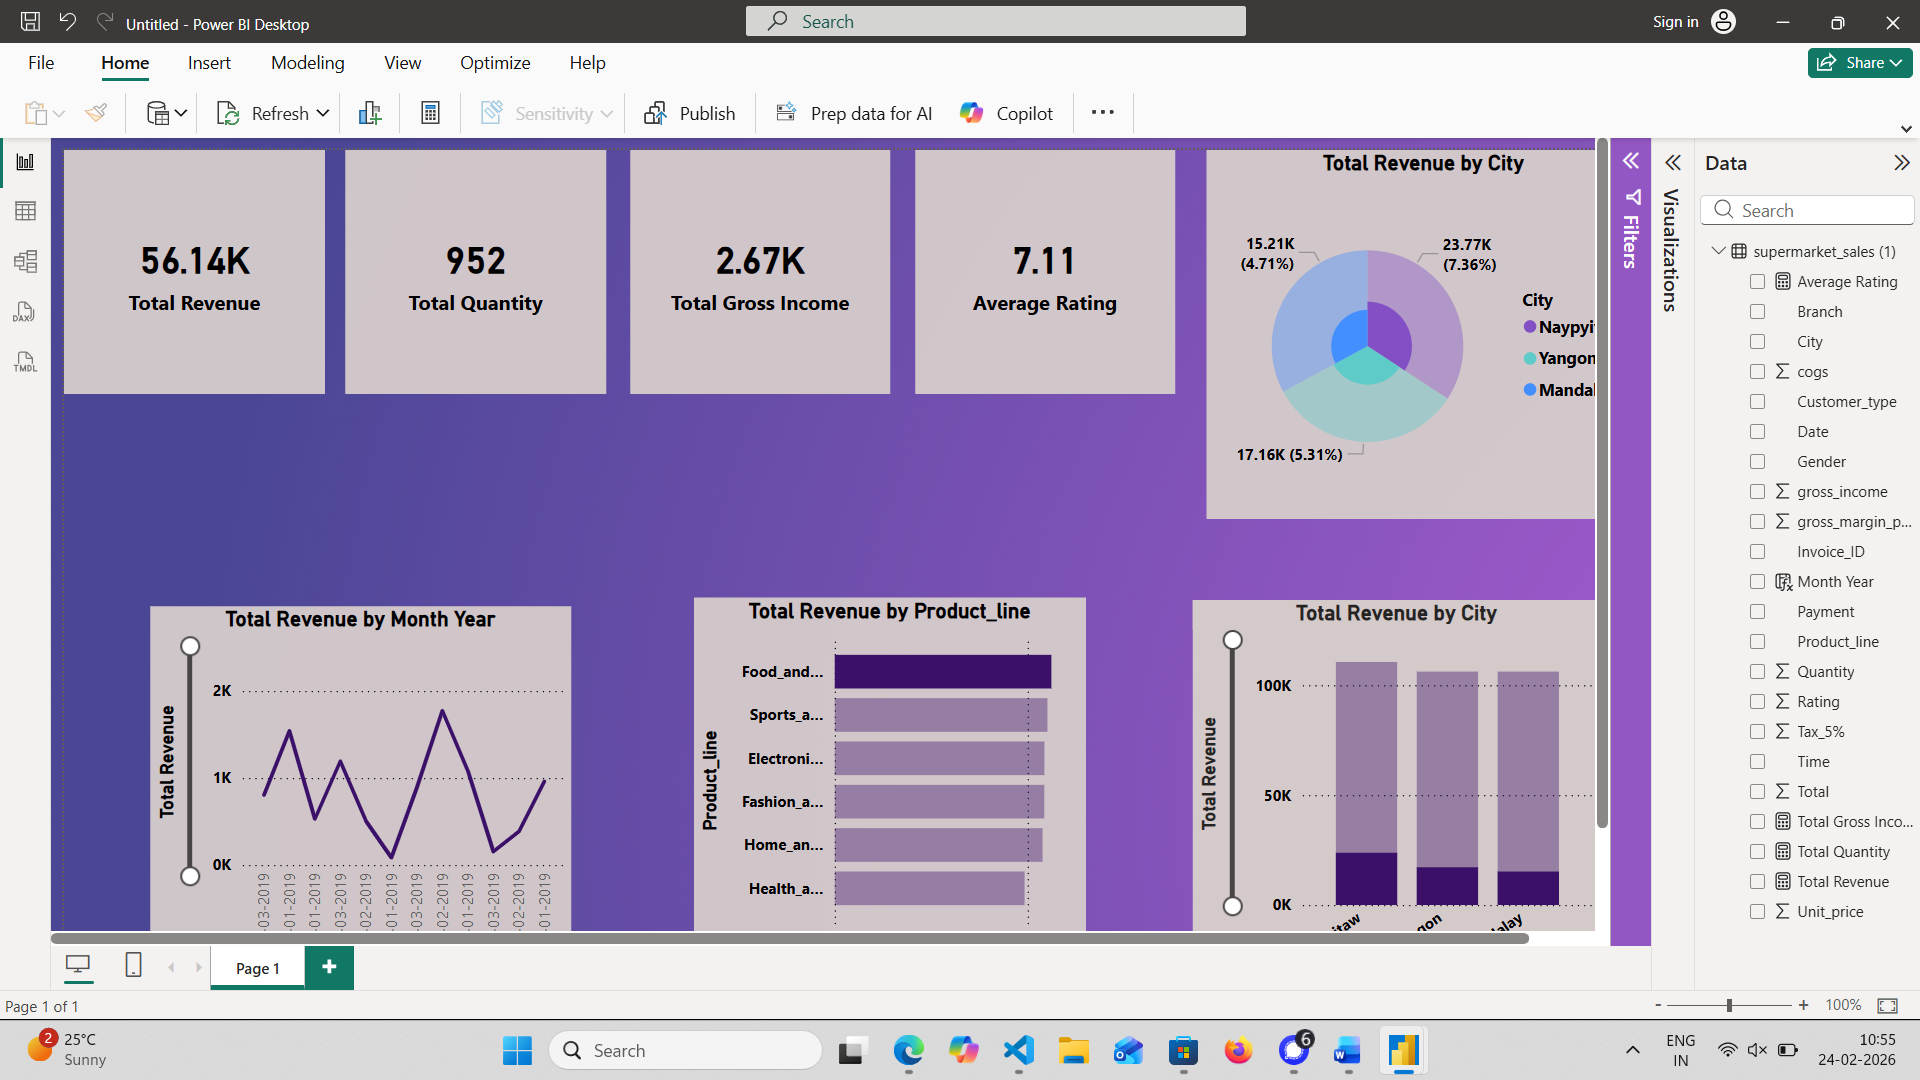

Layout of this report page (visuals, bound fields, positions):
{"tool":"powerbi","page":{"name":"Page 1","canvas":[1280,720],"ordinal":0},"visuals":[{"type":"card","fields":{"Values":["supermarket_sales (1).Total Revenue"]},"box":[0,0,208.6,194.9],"z":0},{"type":"card","fields":{"Values":["supermarket_sales (1).Total Quantity"]},"box":[225,0,208.6,194.9],"z":1000},{"type":"card","fields":{"Values":["supermarket_sales (1).Total Gross Income"]},"box":[452.8,0,208.6,194.9],"z":2000},{"type":"card","fields":{"Values":["supermarket_sales (1).Average Rating"]},"box":[680.6,0,208.6,194.9],"z":3000},{"type":"lineChart","fields":{"Category":["supermarket_sales (1).Month Year"],"Y":["supermarket_sales (1).Total Revenue"]},"box":[68.6,365,337.6,312.9],"z":4000},{"type":"clusteredBarChart","fields":{"Category":["supermarket_sales (1).Product_line"],"Y":["supermarket_sales (1).Total Revenue"]},"box":[503.6,358.1,314.2,326.6],"z":5000},{"type":"columnChart","fields":{"Category":["supermarket_sales (1).City"],"Y":["supermarket_sales (1).Total Revenue"]},"box":[902.9,359.5,326.6,325.2],"z":5002},{"type":"pieChart","fields":{"Y":["supermarket_sales (1).Total Revenue"],"Category":["supermarket_sales (1).City"]},"box":[913.9,0,348.5,295],"z":5003}]}

Visuals, with their boxes on the page's 1280x720 design canvas (x1, y1, x2, y2). These are canvas units, not pixel positions in the 1920x1080 screenshot, which may show the page scaled, cropped or inside an application window:
card - supermarket_sales (1).Total Revenue: 0:0:209:195
card - supermarket_sales (1).Total Quantity: 225:0:434:195
card - supermarket_sales (1).Total Gross Income: 453:0:661:195
card - supermarket_sales (1).Average Rating: 681:0:889:195
lineChart - supermarket_sales (1).Month Year x supermarket_sales (1).Total Revenue: 69:365:406:678
clusteredBarChart - supermarket_sales (1).Product_line x supermarket_sales (1).Total Revenue: 504:358:818:685
columnChart - supermarket_sales (1).City x supermarket_sales (1).Total Revenue: 903:360:1230:685
pieChart - supermarket_sales (1).Total Revenue x supermarket_sales (1).City: 914:0:1262:295
